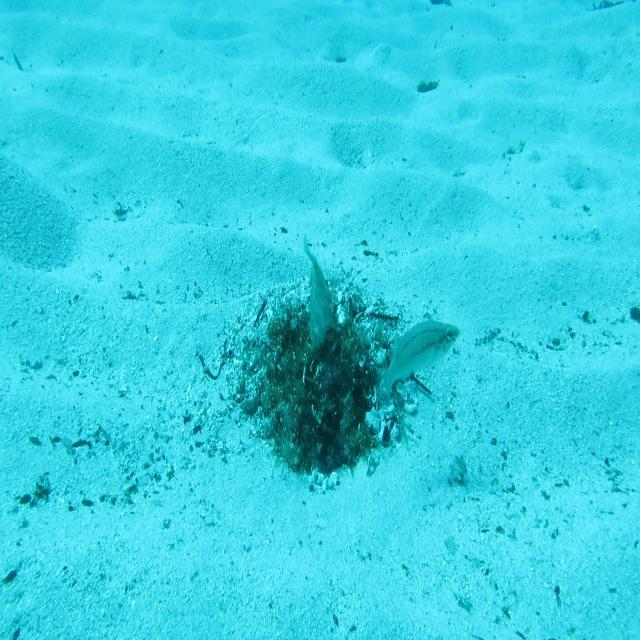NIP_CORE: (302, 230, 336, 352)
core_nest: (295, 323, 340, 376)
female: (373, 319, 463, 416)
nest: (208, 254, 423, 508)
vegetation: (416, 78, 440, 96)
